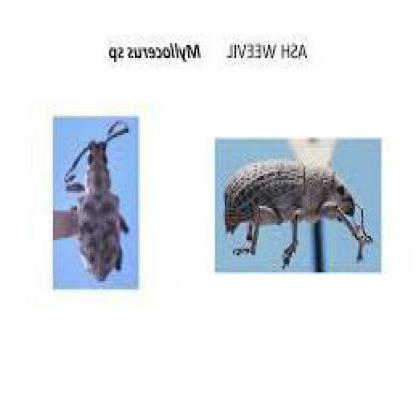ash weevil: (226, 159, 355, 269), (77, 145, 130, 284)
